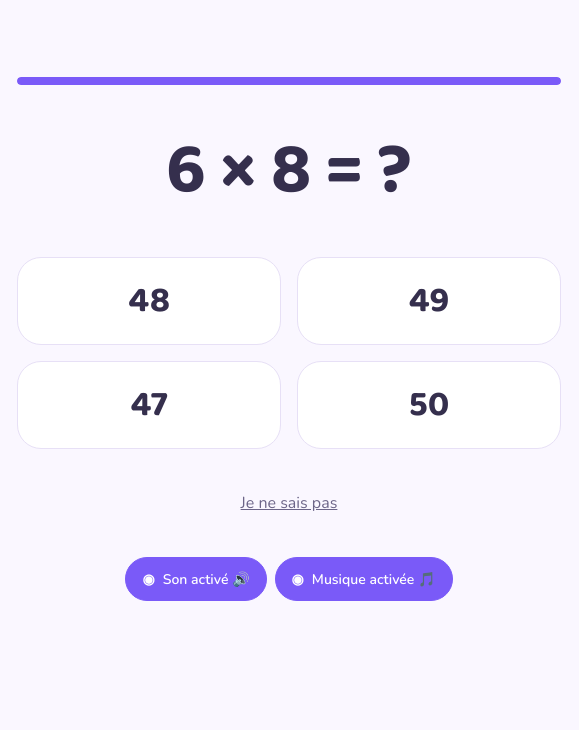
PlayScreen — niveau normal, QCM, no-fail (ENGINE §9) › « je ne sais pas » compte comme faux, sans pénalité (ENGINE §9)
expect the text "6 × 8 = ?" is shown: met, box [166,117,412,225]
Click the button "Je ne sais pas".
click(289, 503)  # box [225,481,353,525]
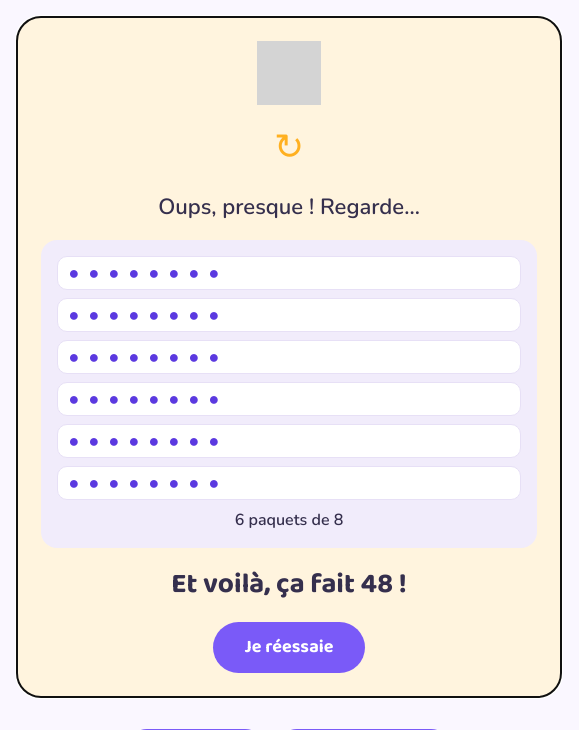
expect the message is shown: met
